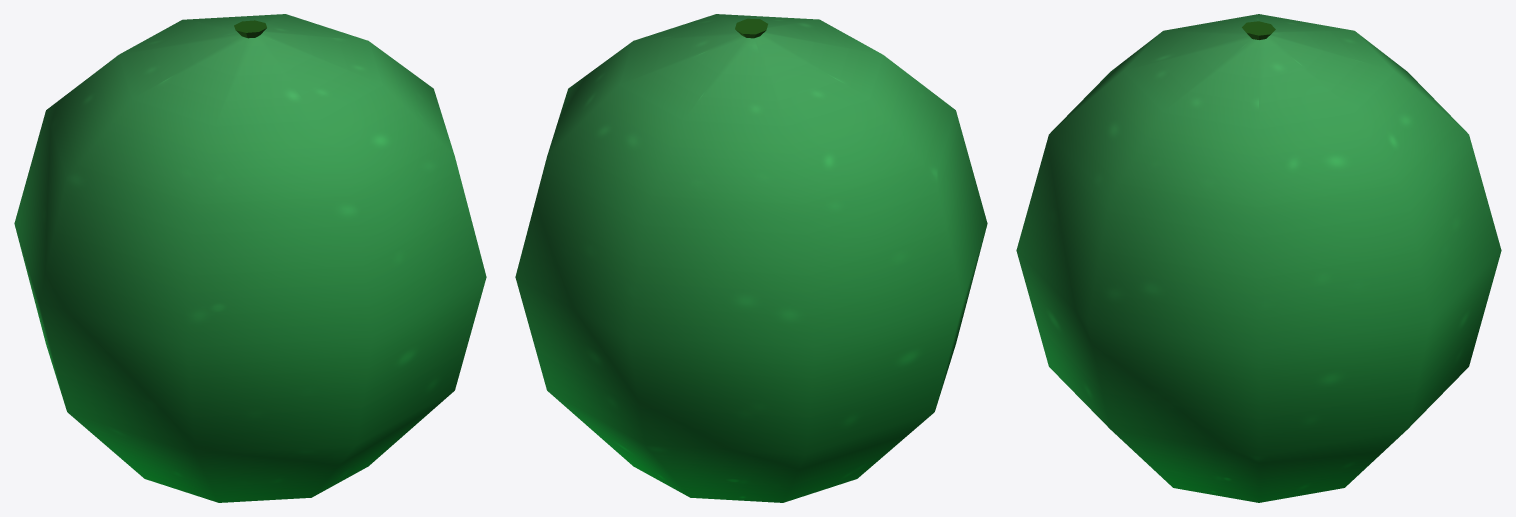
File: lime.glb
3 views of the same model, side by side, from view 1: azimuth 30°, elevation 25°; view 2: azimuth 150°, elevation 25°; view 3: azimuth 270°, elevation 25° (orthographic).
Parts seen in each view (by area): view 1: lime_mesh; view 2: lime_mesh; view 3: lime_mesh.
Part boxes in pixels (box(x1,y1,x2,y2)): lime_mesh: box(14, 14, 486, 502); lime_mesh: box(515, 14, 987, 502); lime_mesh: box(1016, 14, 1501, 502).
Bounding box in the file's own units: 1.02 × 1.03 × 1.02.
